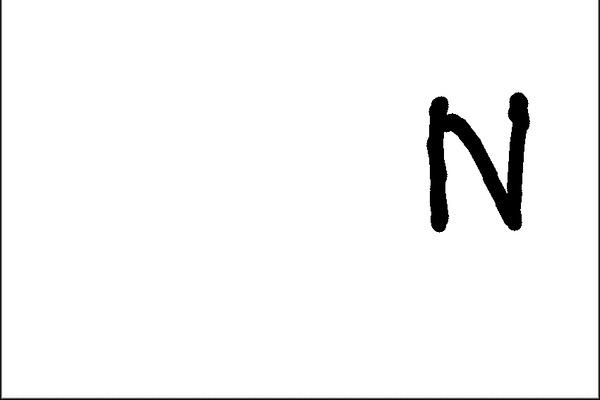N: (419, 83, 536, 240)
